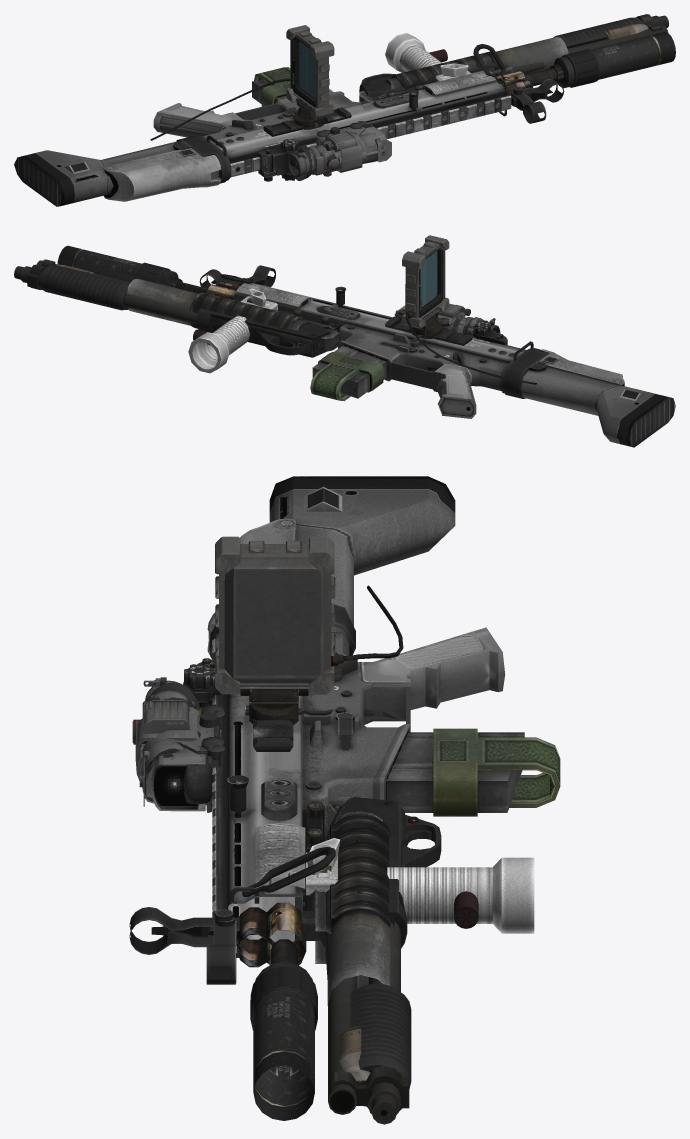
The model's file is viewmodel_scar_h_red_tiger_LOD0.obj.
3 renders of one model, top to bottom at view 1: azimuth 30°, elevation 25°; view 2: azimuth 150°, elevation 25°; view 3: azimuth 270°, elevation 25°, orthographic. The views are drawn at different scales.
Visible parts, largest first — view 1: mtl_weapon_scar_h_red_tiger, mtl_weapon_motion_tracker_red_tiger, mtl_weapon_m203, mtl_weapon_suppressor_b, mtl_weapon_shotgun_masterkey, mtl_weapon_scar_sight_on, mtl_weapon_acog_2_red_tiger, mtl_weapon_scar_h_foregrip, mtl_weapon_thermal_sight_2_red_tiger, mtl_motion_tracker_screen, mtl_weapon_eotech_2_red_tiger, mtl_weapon_scar_sight_off; view 2: mtl_weapon_scar_h_red_tiger, mtl_weapon_shotgun_masterkey, mtl_weapon_motion_tracker_red_tiger, mtl_weapon_m203, mtl_weapon_scar_h_foregrip, mtl_weapon_suppressor_b, mtl_weapon_scar_sight_on, mtl_motion_tracker_screen, mtl_weapon_thermal_sight_2_red_tiger, mtl_weapon_scar_sight_off, mtl_weapon_acog_2_red_tiger; view 3: mtl_weapon_scar_h_red_tiger, mtl_weapon_motion_tracker_red_tiger, mtl_weapon_shotgun_masterkey, mtl_weapon_m203, mtl_weapon_suppressor_b, mtl_weapon_scar_h_foregrip, mtl_weapon_scar_sight_on, mtl_weapon_thermal_sight_2_red_tiger, mtl_weapon_eotech_2_red_tiger, mtl_weapon_scar_sight_off, mtl_weapon_acog_2_red_tiger, mtl_weapon_red_dot_sight_red_tiger (+1 smaller).
Boxes of the visible parts, x1,y1,x2,y2 form: mtl_weapon_scar_h_red_tiger: [14, 44, 563, 206]; mtl_weapon_motion_tracker_red_tiger: [150, 25, 351, 140]; mtl_weapon_m203: [359, 24, 648, 101]; mtl_weapon_suppressor_b: [554, 32, 675, 87]; mtl_weapon_shotgun_masterkey: [359, 14, 668, 102]; mtl_weapon_scar_sight_on: [258, 86, 546, 181]; mtl_weapon_acog_2_red_tiger: [289, 122, 385, 177]; mtl_weapon_scar_h_foregrip: [385, 33, 471, 81]; mtl_weapon_thermal_sight_2_red_tiger: [295, 127, 391, 180]; mtl_motion_tracker_screen: [299, 42, 315, 98]; mtl_weapon_eotech_2_red_tiger: [316, 126, 364, 172]; mtl_weapon_scar_sight_off: [280, 79, 564, 176]; mtl_weapon_scar_h_red_tiger: [169, 274, 675, 447]; mtl_weapon_shotgun_masterkey: [14, 259, 330, 357]; mtl_weapon_motion_tracker_red_tiger: [385, 235, 536, 384]; mtl_weapon_m203: [56, 264, 339, 351]; mtl_weapon_scar_h_foregrip: [188, 288, 277, 373]; mtl_weapon_suppressor_b: [57, 245, 178, 286]; mtl_weapon_scar_sight_on: [239, 265, 507, 344]; mtl_motion_tracker_screen: [420, 251, 437, 307]; mtl_weapon_thermal_sight_2_red_tiger: [436, 303, 488, 336]; mtl_weapon_scar_sight_off: [199, 269, 487, 337]; mtl_weapon_acog_2_red_tiger: [440, 311, 500, 333]; mtl_weapon_scar_h_red_tiger: [207, 476, 560, 1076]; mtl_weapon_motion_tracker_red_tiger: [215, 536, 403, 751]; mtl_weapon_shotgun_masterkey: [295, 797, 478, 1124]; mtl_weapon_m203: [307, 797, 394, 1080]; mtl_weapon_suppressor_b: [250, 961, 317, 1120]; mtl_weapon_scar_h_foregrip: [306, 838, 534, 933]; mtl_weapon_scar_sight_on: [129, 658, 237, 954]; mtl_weapon_thermal_sight_2_red_tiger: [138, 682, 218, 806]; mtl_weapon_eotech_2_red_tiger: [135, 707, 220, 805]; mtl_weapon_scar_sight_off: [199, 668, 236, 984]; mtl_weapon_acog_2_red_tiger: [132, 677, 223, 803]; mtl_weapon_red_dot_sight_red_tiger: [151, 710, 225, 812].
Bounding box in the file's own units: 98.01 × 17.86 × 29.03.
